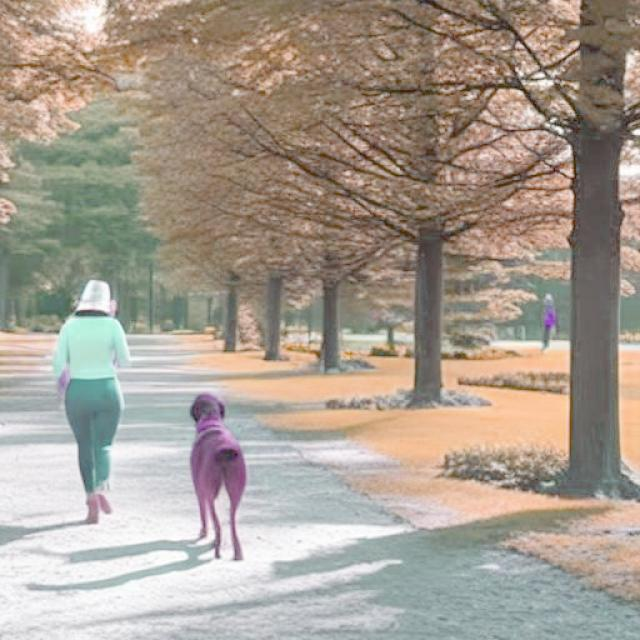Unleashed_Dog: (64, 380, 248, 558)
